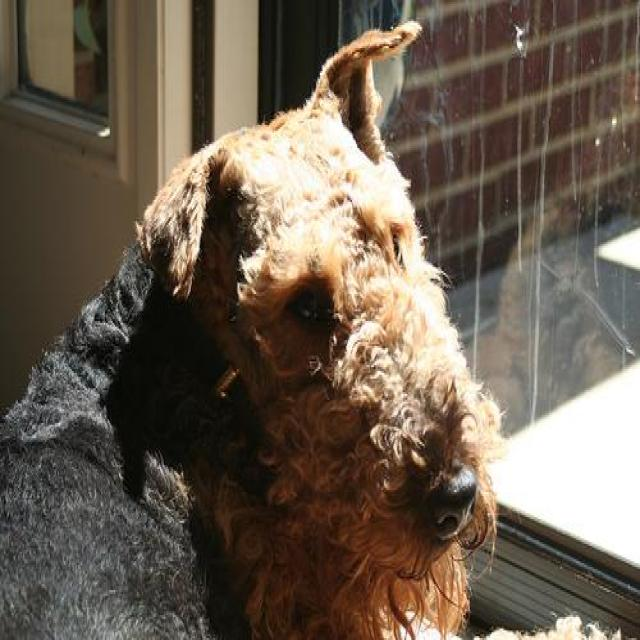airedale: (0, 19, 503, 638)
